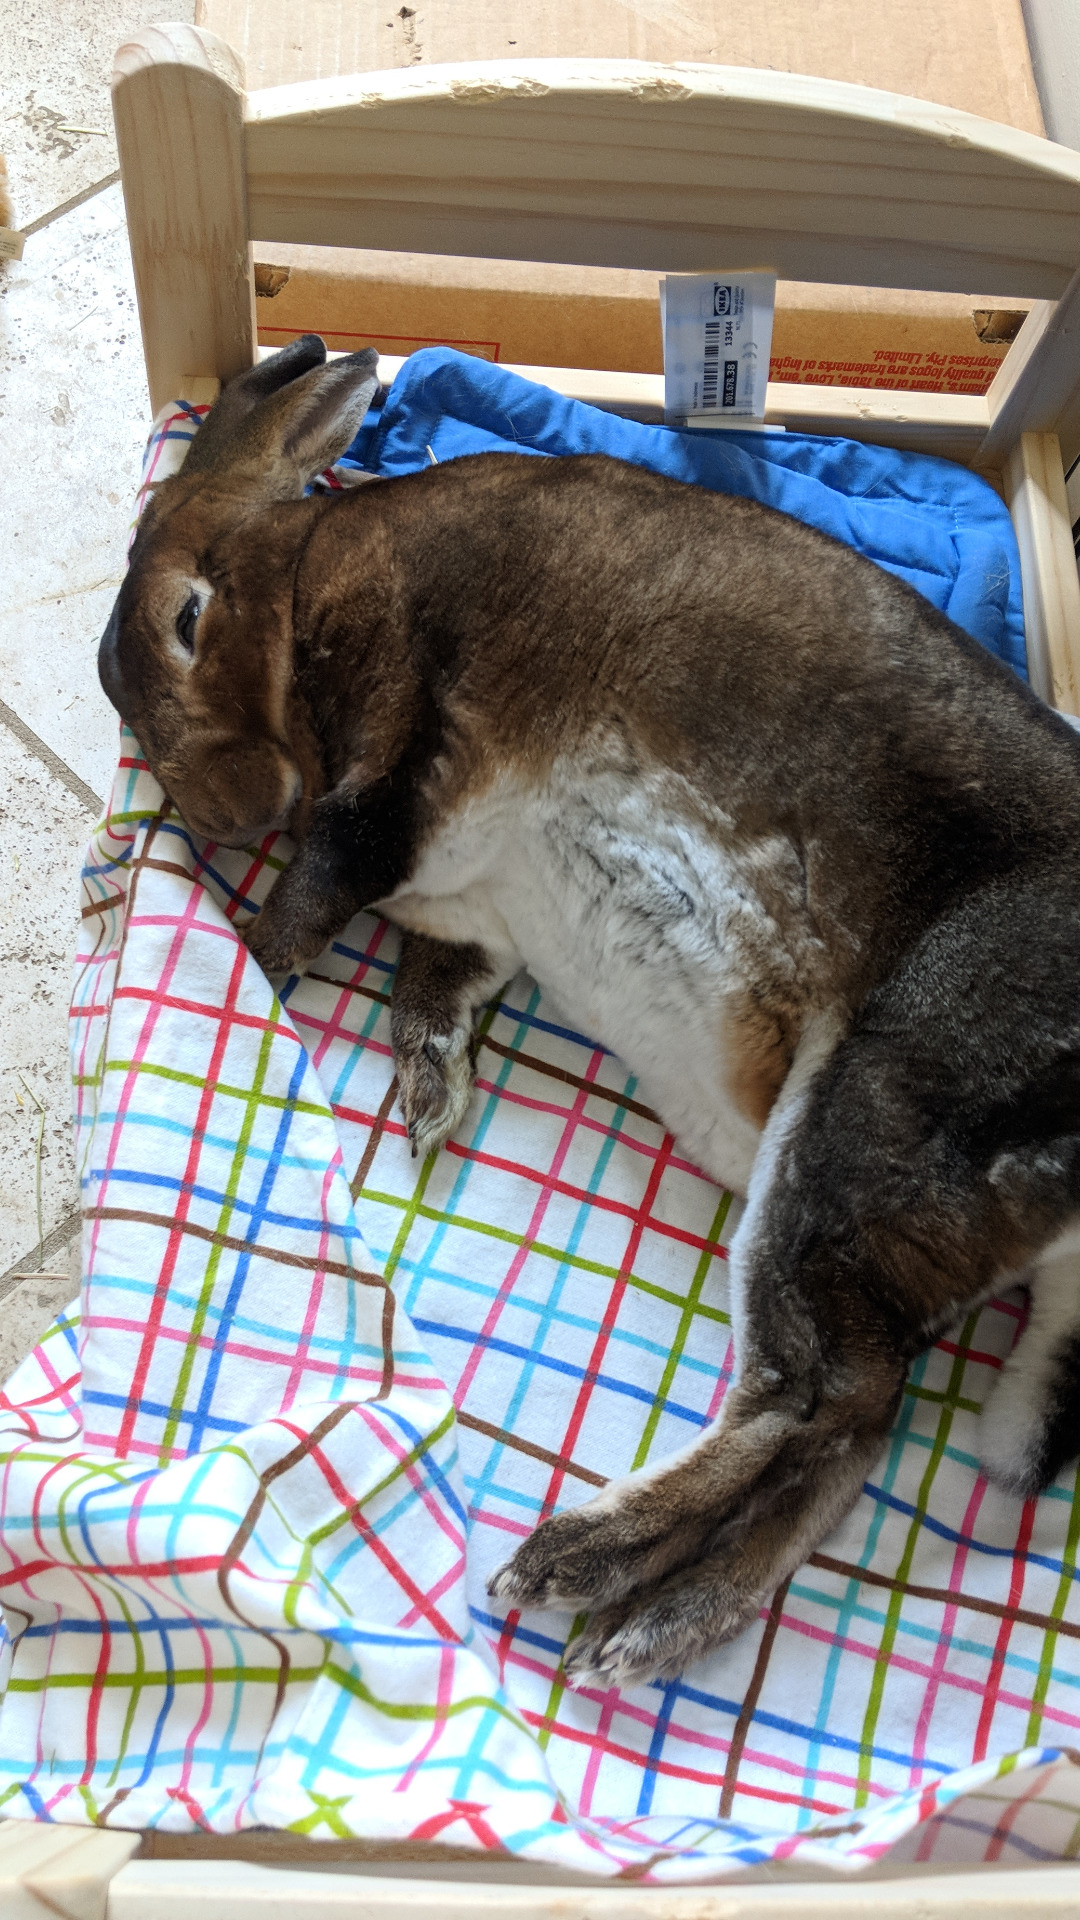bunny: (83, 316, 1080, 1722)
